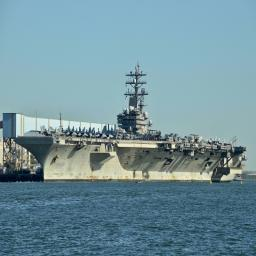Portanaves: (13, 58, 250, 186)
